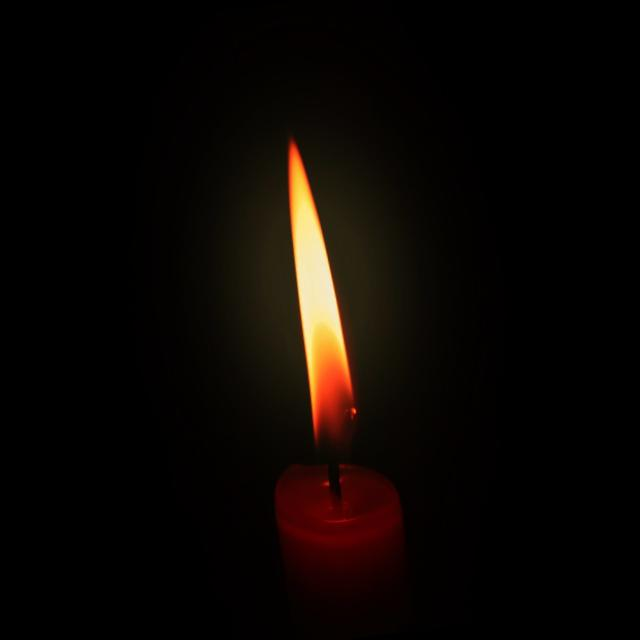Fire_Save: (228, 125, 416, 636), (276, 130, 362, 462)
